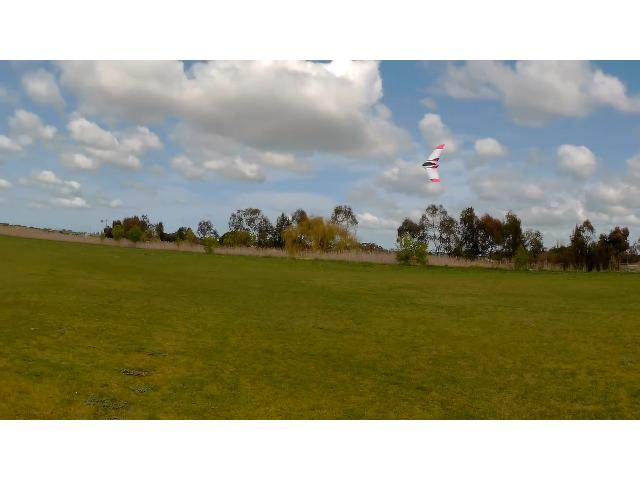Anti-Drone: (420, 145, 446, 182)
